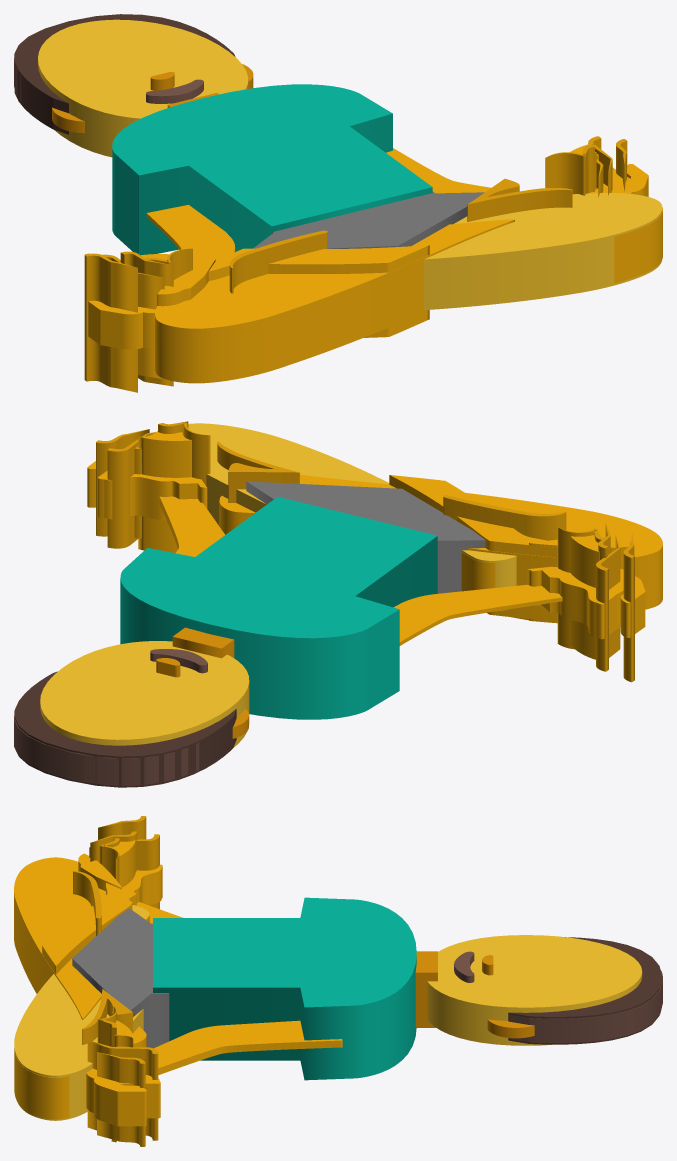
File: emoji_u1f9d8_200d_2642.glb
3 renders of one model, top to bottom at view 1: azimuth 30°, elevation 25°; view 2: azimuth 150°, elevation 25°; view 3: azimuth 270°, elevation 25°, orthographic. The views are drawn at different scales.
Parts seen in each view (by area): view 1: emoji_u1f9d8_200d_2642; view 2: emoji_u1f9d8_200d_2642; view 3: emoji_u1f9d8_200d_2642.
Part boxes in pixels (x1,y1,x2,y2): emoji_u1f9d8_200d_2642: (14, 14, 662, 392); emoji_u1f9d8_200d_2642: (14, 421, 662, 787); emoji_u1f9d8_200d_2642: (14, 816, 662, 1146).
Bounding box in the file's own units: 0.0294 × 0.0066 × 0.0339.
